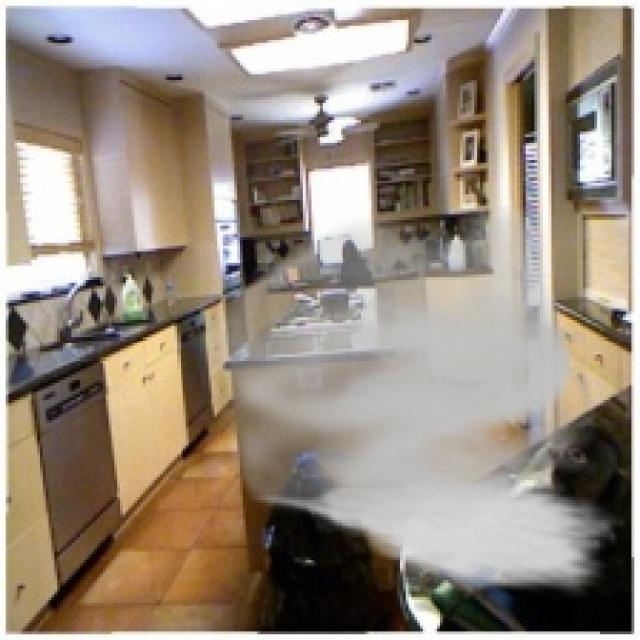smoke: (197, 206, 623, 597)
